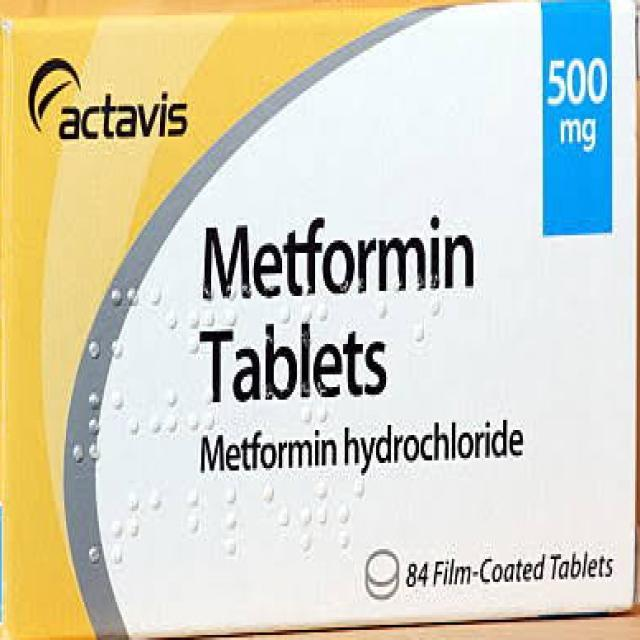drug-name: (197, 216, 476, 299)
